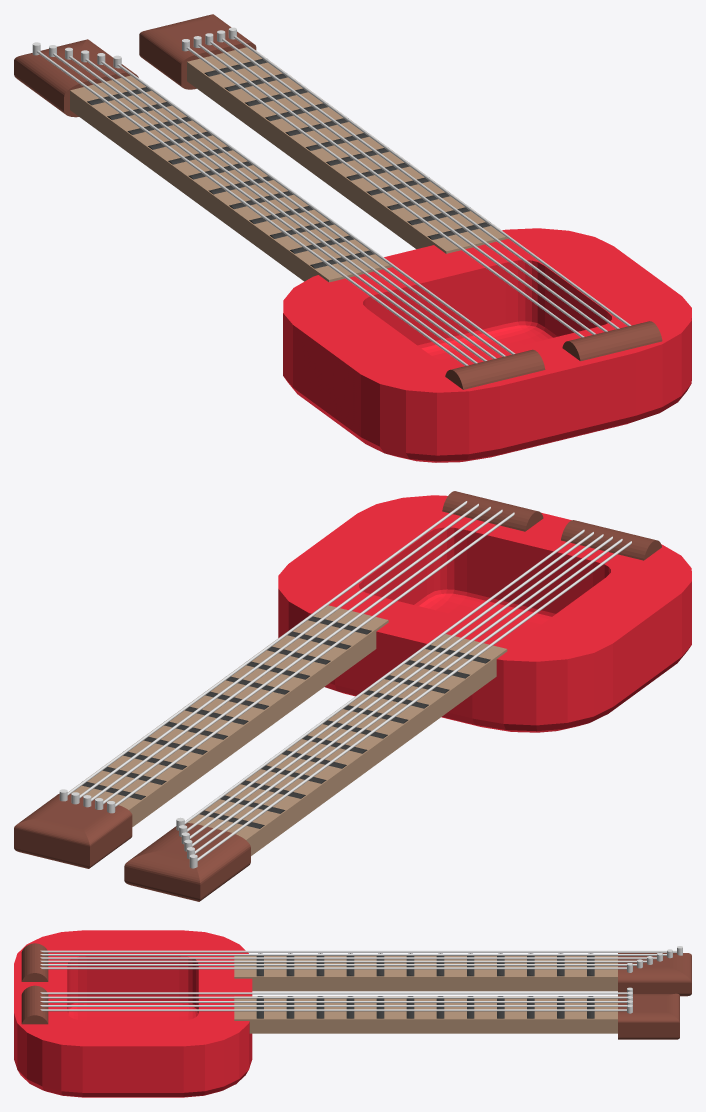
Rendered from doubleGuitarRounded.fbx.
3 views of the same model, one above another, from view 1: azimuth 30°, elevation 25°; view 2: azimuth 150°, elevation 25°; view 3: azimuth 270°, elevation 25° (orthographic). The views are drawn at different scales.
Visible parts, largest first — view 1: body, 5 string neck, 6 string neck, 6 string head, 5 string head, Cylinder, Cylinder.001, Cylinder.049, Cylinder.048, Cylinder.047, Cylinder.046, Cylinder.045 (+6 smaller); view 2: body, 5 string neck, 6 string neck, 6 string head, 5 string head, Cylinder.001, Cylinder, Cylinder.049, Cylinder.048, Cylinder.047, Cylinder.046, Cylinder.045 (+6 smaller); view 3: body, 5 string neck, 6 string neck, 5 string head, 6 string head, Cylinder.049, Cylinder.047, Cylinder.046, Cylinder.040, Cylinder.041, Cylinder.043, Cylinder.044 (+6 smaller).
Part boxes in pixels (<box>): body: <box>283,228,691,462</box>; 5 string neck: <box>187,47,507,253</box>; 6 string neck: <box>70,75,391,282</box>; 6 string head: <box>14,39,138,117</box>; 5 string head: <box>139,14,256,89</box>; Cylinder: <box>445,349,545,389</box>; Cylinder.001: <box>562,321,662,361</box>; Cylinder.049: <box>37,50,468,365</box>; Cylinder.048: <box>53,53,477,363</box>; Cylinder.047: <box>69,56,487,361</box>; Cylinder.046: <box>85,58,496,359</box>; Cylinder.045: <box>101,61,505,356</box>; body: <box>278,495,691,732</box>; 5 string neck: <box>69,604,388,826</box>; 6 string neck: <box>188,634,507,855</box>; 6 string head: <box>124,823,250,901</box>; 5 string head: <box>14,793,132,868</box>; Cylinder.001: <box>442,491,543,531</box>; Cylinder: <box>561,520,661,560</box>; Cylinder.049: <box>197,541,631,861</box>; Cylinder.048: <box>195,539,622,853</box>; Cylinder.047: <box>192,536,612,846</box>; Cylinder.046: <box>190,534,603,839</box>; Cylinder.045: <box>187,532,593,831</box>; body: <box>14,930,252,1097</box>; 5 string neck: <box>234,996,617,1033</box>; 6 string neck: <box>234,956,617,991</box>; 5 string head: <box>618,993,679,1039</box>; 6 string head: <box>618,953,691,996</box>; Cylinder.049: <box>40,950,676,952</box>; Cylinder.047: <box>40,957,656,959</box>; Cylinder.046: <box>40,960,646,962</box>; Cylinder.040: <box>40,996,626,998</box>; Cylinder.041: <box>40,992,626,994</box>; Cylinder.043: <box>40,1009,626,1011</box>; Cylinder.044: <box>40,967,626,969</box>.
Bounding box in the file's own units: 274 × 85 × 677.
